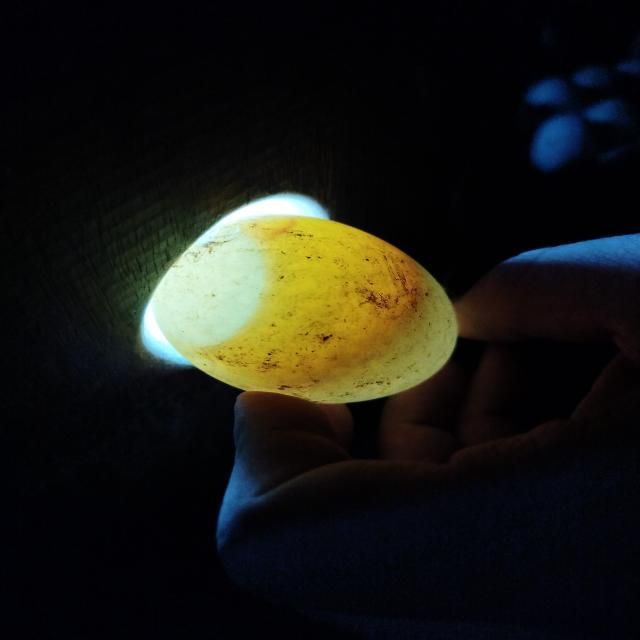Camara de Ar: (158, 221, 272, 345)
